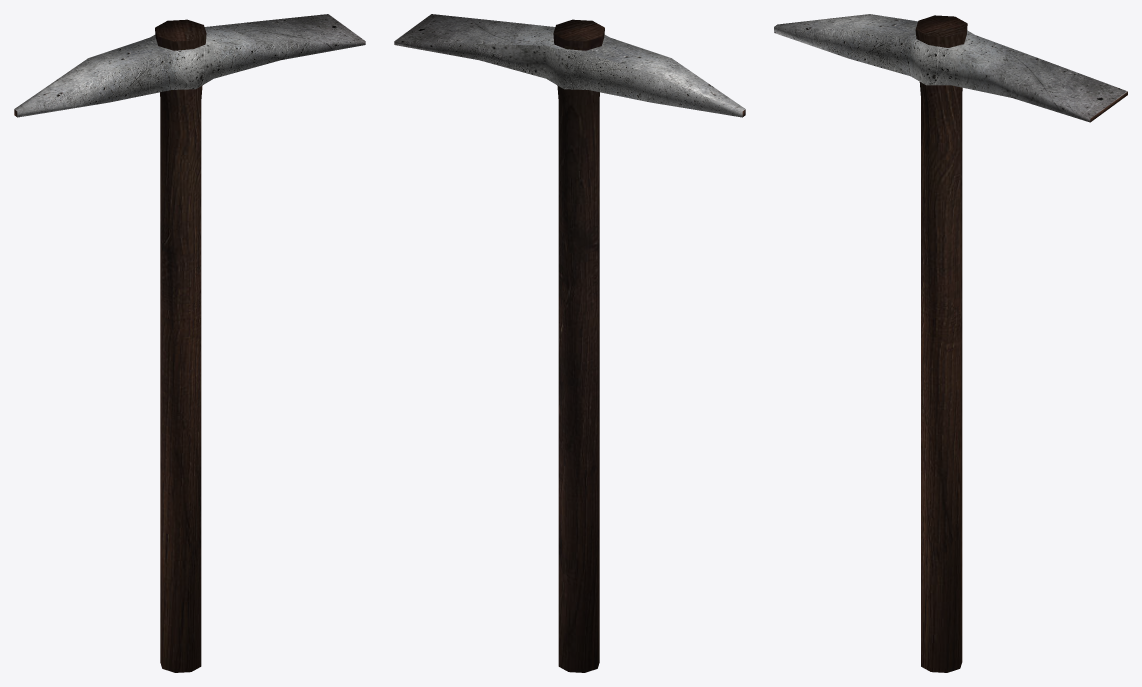
Rendered from PickAxe3.fbx.
3 renders of one model, left to right at view 1: azimuth 30°, elevation 25°; view 2: azimuth 150°, elevation 25°; view 3: azimuth 330°, elevation 25°, orthographic.
Parts seen in each view (by area): view 1: Cube.002; view 2: Cube.002; view 3: Cube.002.
Part boxes in pixels (box(x1,y1,x2,y2)): Cube.002: box(14, 14, 365, 672); Cube.002: box(394, 14, 745, 672); Cube.002: box(774, 14, 1127, 672).
Size of the model in its own units: 54.77 by 10.7 by 100.
Materials: 2 (2 with a texture image).
